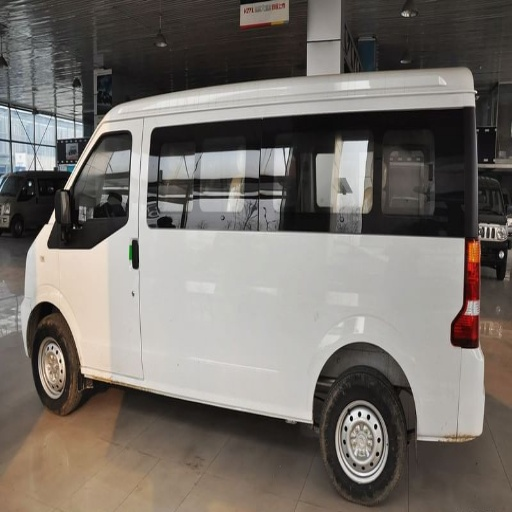trunk: (332, 242, 453, 418)
